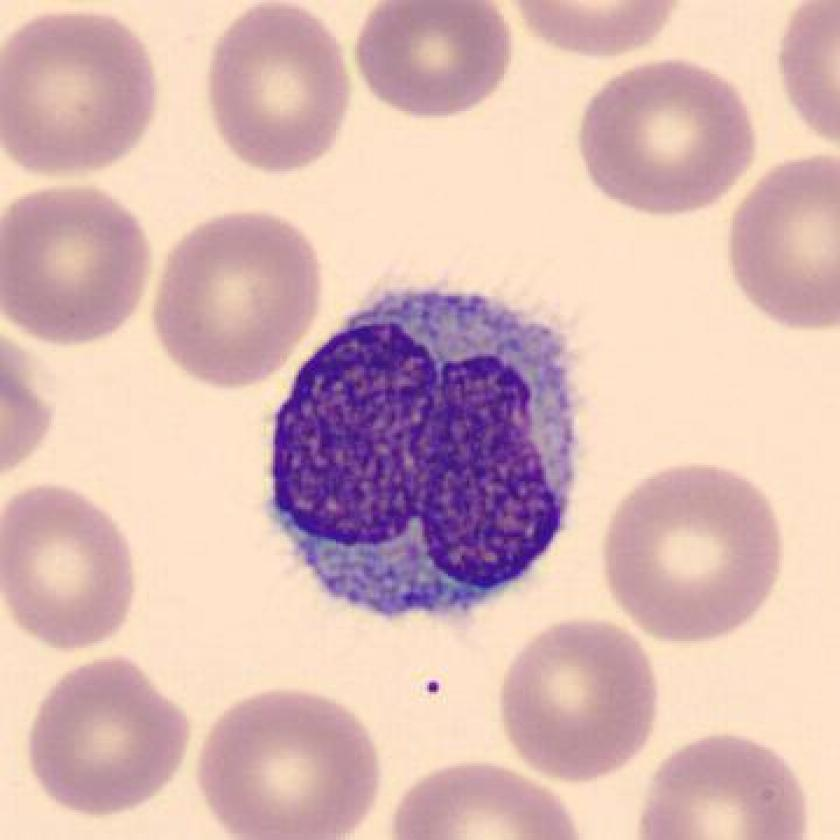monocyte: (255, 267, 608, 644)
